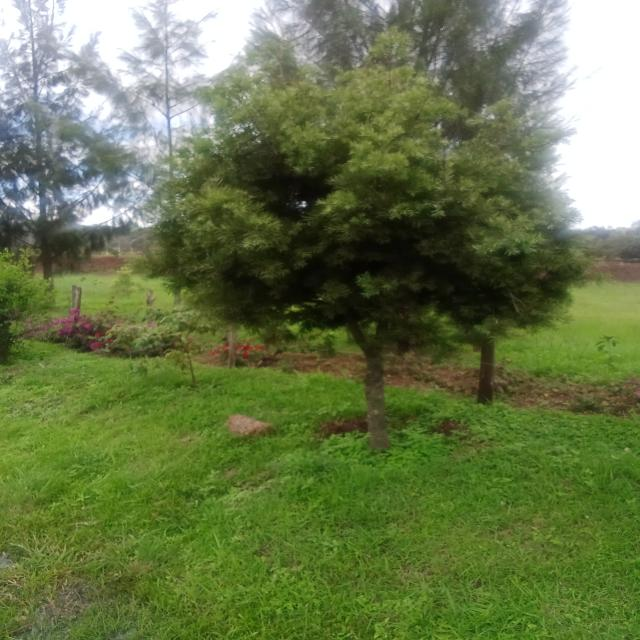Podocarpus falcatus: (133, 67, 596, 482)
